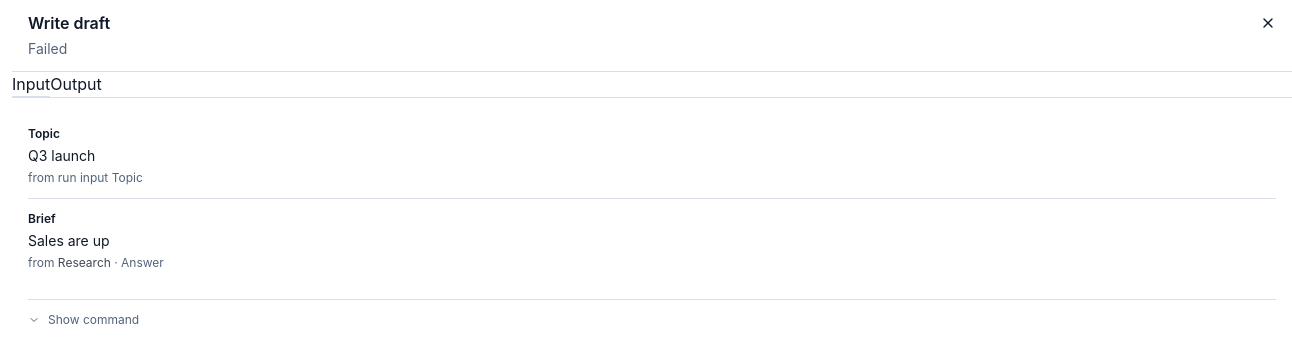
it: StepPanel — tabs › shows a step error alongside its output
This screenshot has width=1292, height=341.
Click the tab "Output" at (76, 85), box [50,72,102,98]
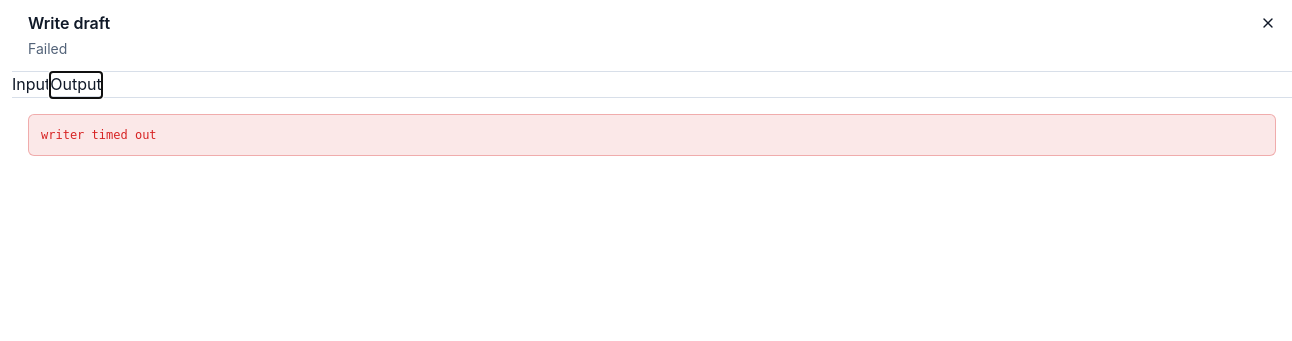
expect the text "writer timed out" is shown: met, box [41,128,157,142]
